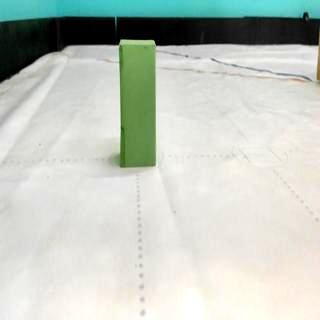greenbox: (118, 38, 156, 168)
